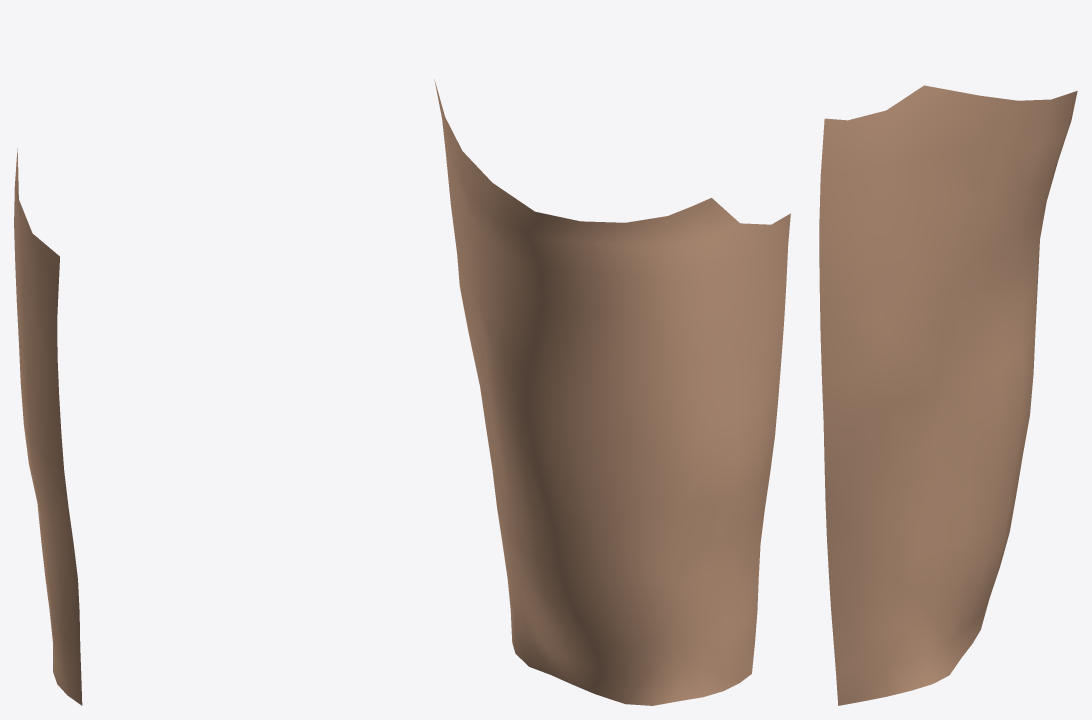
File: posterior-region-of-thigh-l.glb
The picture shows the model from 3 angles, left to right: view 1: azimuth 30°, elevation 25°; view 2: azimuth 150°, elevation 25°; view 3: azimuth 270°, elevation 25°; orthographic projection. The views are drawn at different scales.
Parts seen in each view (by area): view 1: Posterior region of thigh.l; view 2: Posterior region of thigh.l; view 3: Posterior region of thigh.l.
Boxes of the visible parts, <box> form: Posterior region of thigh.l: <box>14,148,82,705</box>; Posterior region of thigh.l: <box>434,79,790,705</box>; Posterior region of thigh.l: <box>819,85,1077,705</box>.
Bounding box in the file's own units: 0.1798 × 0.305 × 0.1102.
